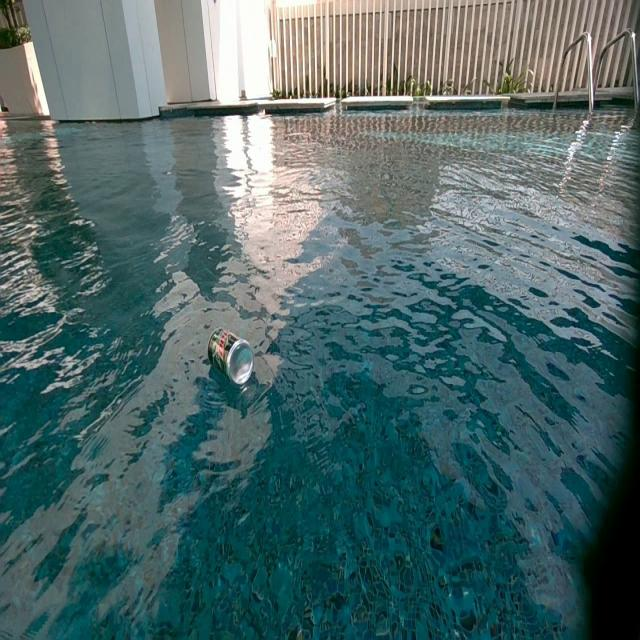Cans: (206, 329, 254, 386)
